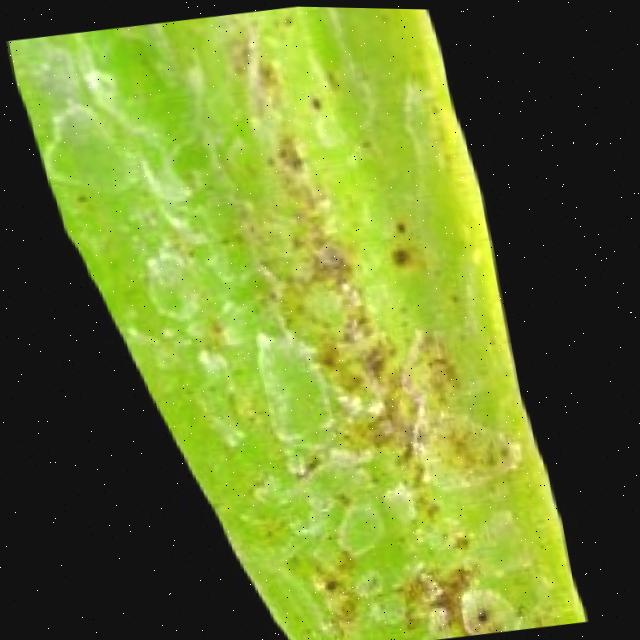mite: (287, 476, 516, 640), (292, 491, 397, 639), (384, 564, 443, 632), (324, 498, 383, 556), (447, 580, 506, 635), (380, 215, 411, 266), (458, 599, 494, 634), (416, 600, 447, 634), (324, 590, 354, 622), (300, 83, 327, 114), (384, 209, 411, 235), (384, 241, 409, 266), (463, 602, 487, 623), (312, 571, 336, 592), (306, 89, 322, 111), (390, 215, 405, 232)
spots: (1, 5, 590, 640)
